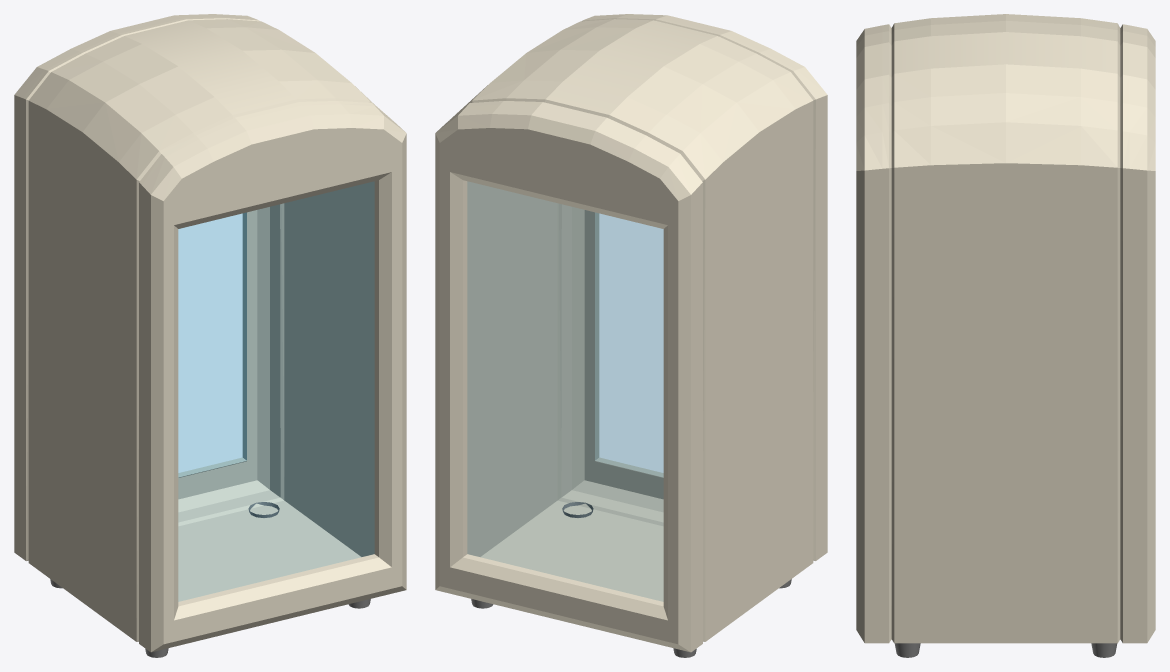
The model's file is SM_box_rounded_01.fbx.
3 views of the same model, side by side, from view 1: azimuth 30°, elevation 25°; view 2: azimuth 150°, elevation 25°; view 3: azimuth 270°, elevation 25° (orthographic). The views are drawn at different scales.
Visible parts, largest first — view 1: box_rounded_01; view 2: box_rounded_01; view 3: box_rounded_01.
Boxes of the visible parts, x1=… form: box_rounded_01: x1=14, y1=14, x2=406, y2=657; box_rounded_01: x1=435, y1=14, x2=827, y2=657; box_rounded_01: x1=856, y1=14, x2=1155, y2=657.
Bounding box in the file's own units: 11.57 × 23.13 × 11.34.
